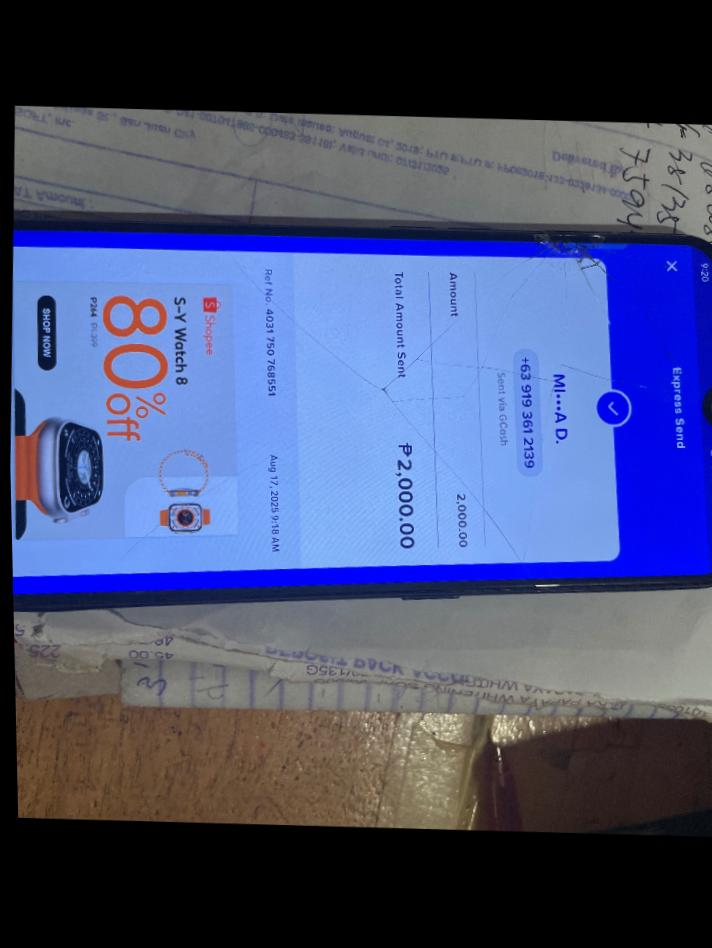Receipt: (10, 243, 707, 594)
